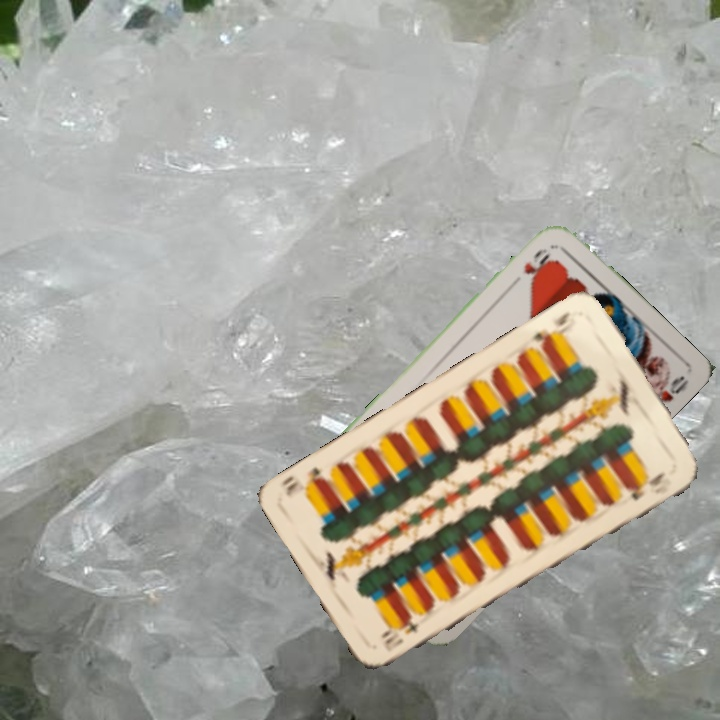E10: (528, 307, 574, 350), (380, 618, 422, 654)
HO: (520, 244, 555, 287)
